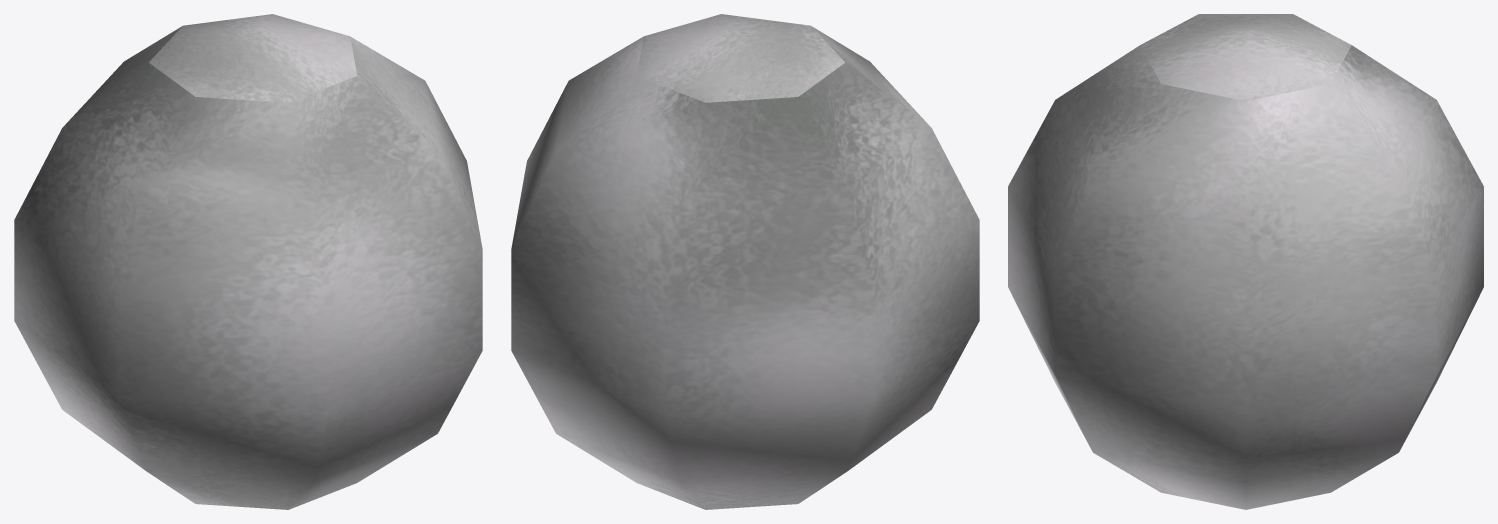
Rendered from glassSphere.obj.
3 views of the same model, side by side, from view 1: azimuth 30°, elevation 25°; view 2: azimuth 150°, elevation 25°; view 3: azimuth 270°, elevation 25° (orthographic).
Parts seen in each view (by area): view 1: pSphere1 Mesh; view 2: pSphere1 Mesh; view 3: pSphere1 Mesh.
Part boxes in pixels (x1,y1,x2,y2): pSphere1 Mesh: (14,14,482,509); pSphere1 Mesh: (511,14,979,509); pSphere1 Mesh: (1008,14,1483,509).
Bounding box in the file's own units: 1.85 × 2 × 1.9.
